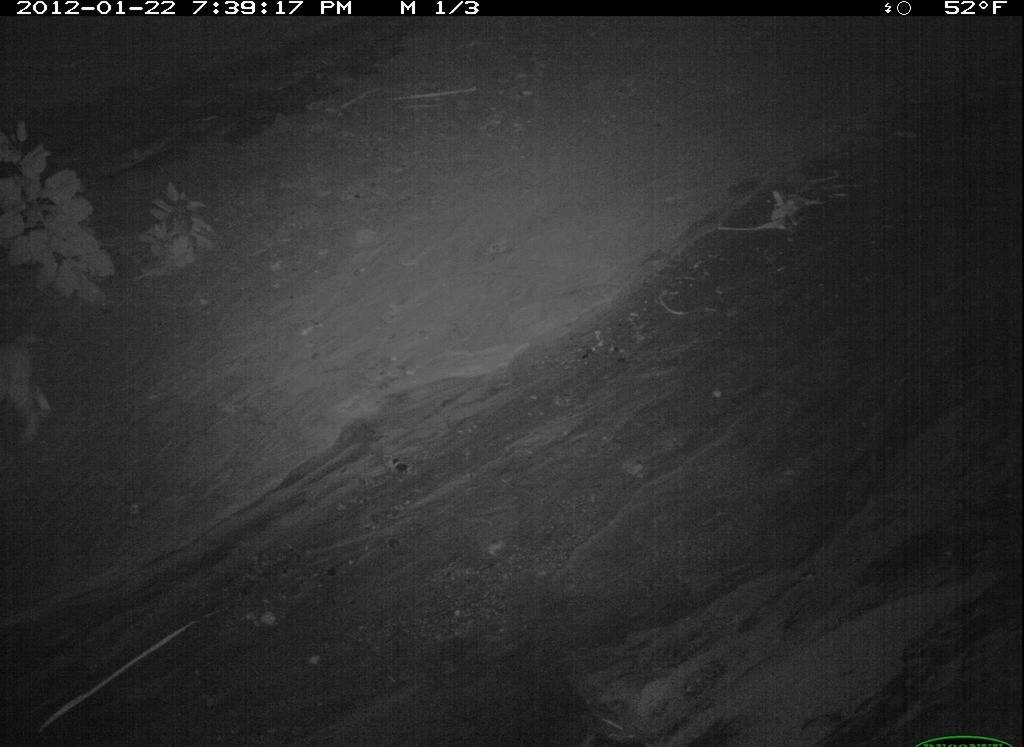bobcat: (8, 658, 115, 747)
